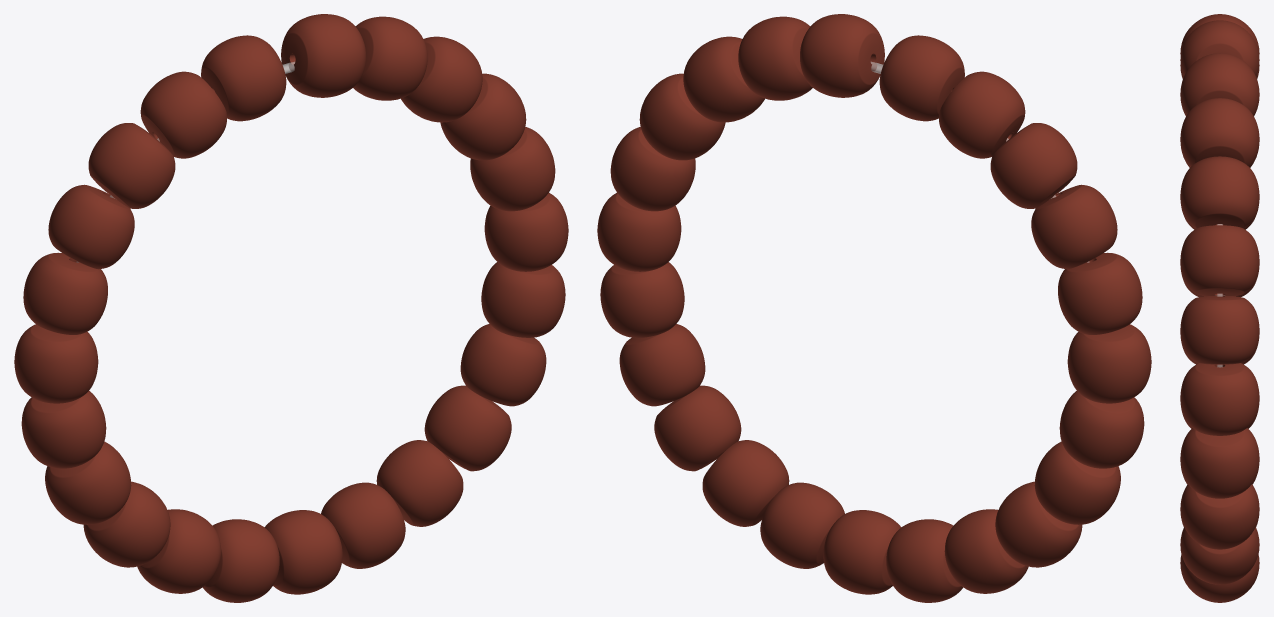
Rendered from 1764572073142_7-8手串-diy-1763972344432.glb.
The picture shows the model from 3 angles, left to right: view 1: azimuth 30°, elevation 25°; view 2: azimuth 150°, elevation 25°; view 3: azimuth 270°, elevation 25°; orthographic projection. The views are drawn at different scales.
Visible parts, largest first — view 1: JewelCAD_2 (×23); view 2: JewelCAD_2 (×23); view 3: JewelCAD_2 (×13).
Boxes of the visible parts, bbox=[...] form: JewelCAD_2 (×23): bbox=[14, 14, 568, 602]; JewelCAD_2 (×23): bbox=[597, 14, 1151, 602]; JewelCAD_2 (×13): bbox=[1180, 14, 1259, 602].
Bounding box in the file's own units: 0.0522 × 0.0521 × 0.007.
